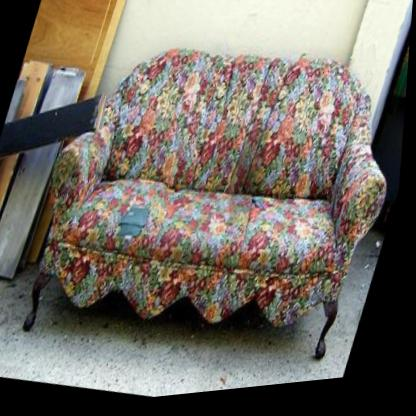Sofa: (6, 11, 413, 409)
